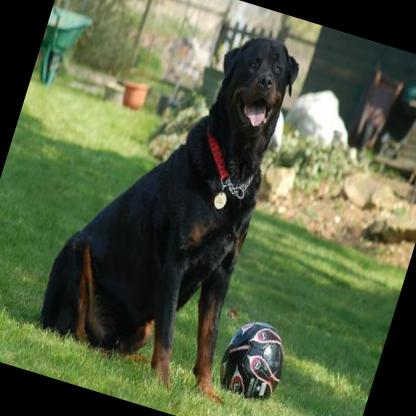Rottweiler: (27, 0, 330, 404)
